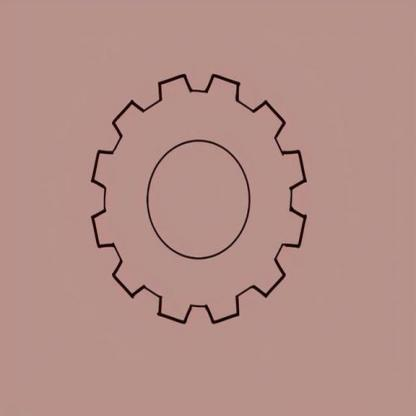FOD: (86, 66, 312, 331)
